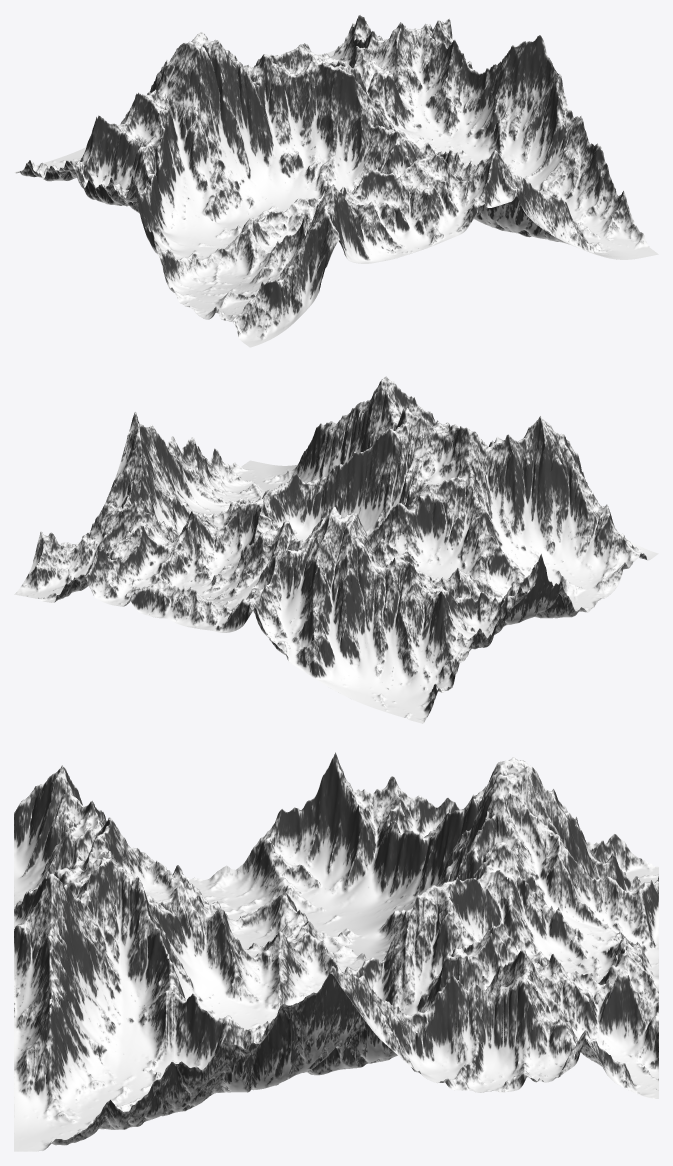
File: Snow01.glb
3 renders of one model, top to bottom at view 1: azimuth 30°, elevation 25°; view 2: azimuth 150°, elevation 25°; view 3: azimuth 270°, elevation 25°, orthographic. The views are drawn at different scales.
Visible parts, largest first — view 1: Object_2, Object_3, Object_4; view 2: Object_3, Object_2, Object_4; view 3: Object_2, Object_3, Object_4.
Boxes of the visible parts, x1,y1,x2,y2 form: Object_2: (14, 23, 658, 347); Object_3: (28, 15, 652, 305); Object_4: (182, 143, 646, 336); Object_3: (14, 412, 588, 719); Object_2: (89, 376, 658, 723); Object_4: (186, 376, 645, 609); Object_2: (14, 752, 658, 1151); Object_3: (30, 753, 658, 1151); Object_4: (24, 765, 215, 1149).
Bounding box in the file's own units: 2 × 0.7107 × 2.
Materials: 1 (1 with a texture image).
